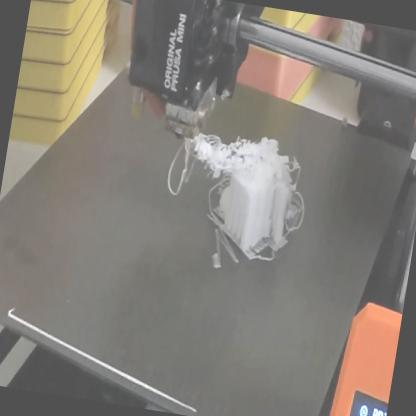fail: (173, 132, 248, 196)
